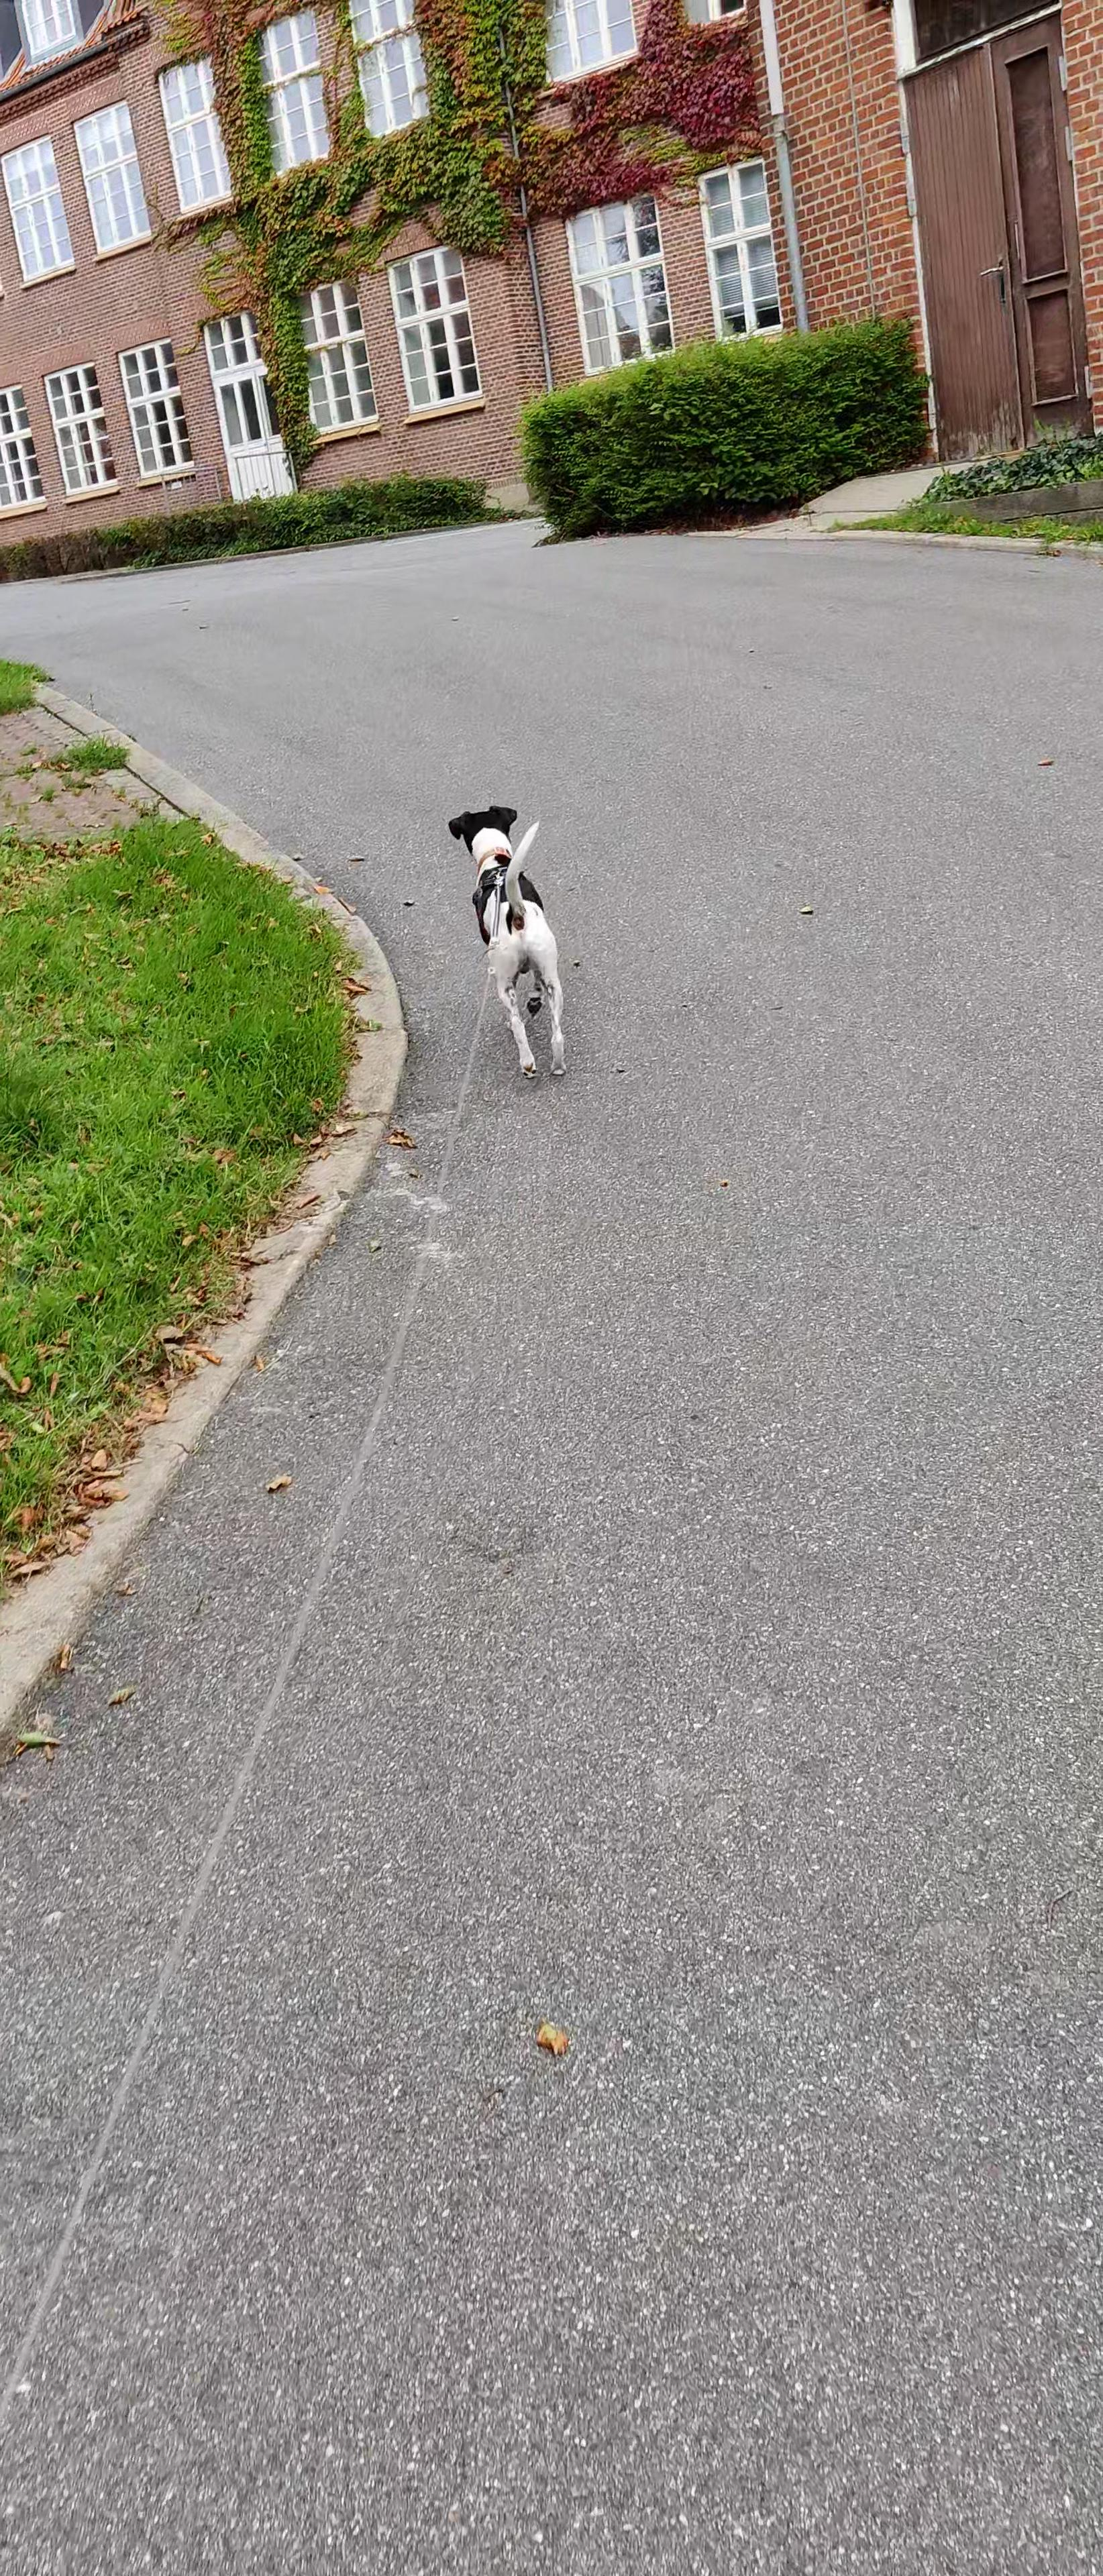Dog: (427, 787, 588, 1088)
